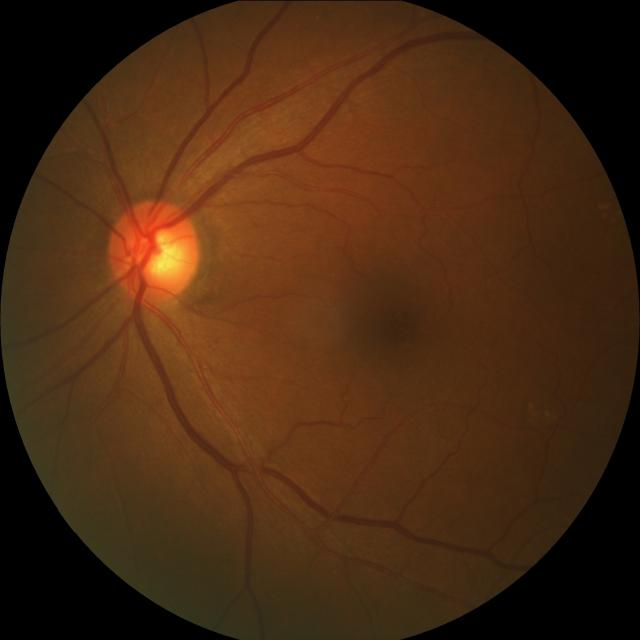OC: (132, 226, 183, 282)
OD: (110, 197, 202, 304)
